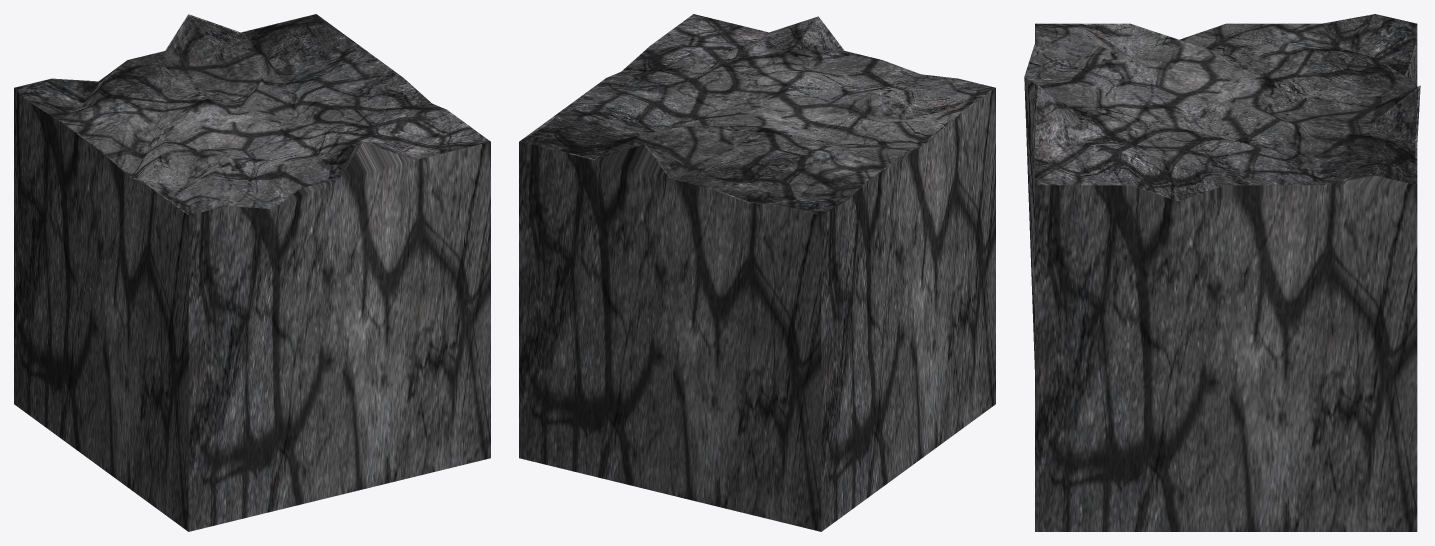
File: rock.glb
3 renders of one model, left to right at view 1: azimuth 30°, elevation 25°; view 2: azimuth 150°, elevation 25°; view 3: azimuth 270°, elevation 25°, orthographic. The views are drawn at different scales.
Parts seen in each view (by area): view 1: Cube.001; view 2: Cube.001; view 3: Cube.001.
Boxes of the visible parts, x1,y1,x2,y2 form: Cube.001: (14,14,490,531); Cube.001: (519,14,995,531); Cube.001: (1024,14,1420,531).
Bounding box in the file's own units: 1.05 × 1.09 × 1.04.
Materials: 1 (1 with a texture image).
